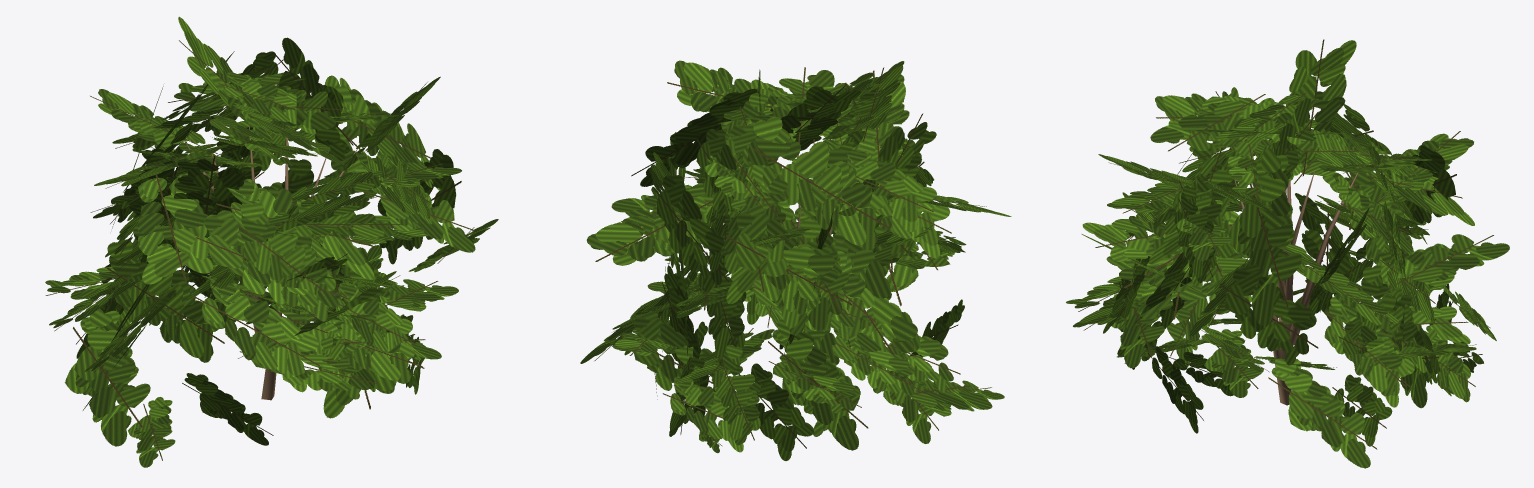
File: mid.glb
3 renders of one model, left to right at view 1: azimuth 30°, elevation 25°; view 2: azimuth 150°, elevation 25°; view 3: azimuth 270°, elevation 25°, orthographic. The views are drawn at different scales.
Parts seen in each view (by area): view 1: foliage.001, bark.001; view 2: foliage.001; view 3: foliage.001, bark.001.
Part boxes in pixels (<box>): foliage.001: <box>45,16,498,467</box>; bark.001: <box>184,125,357,400</box>; foliage.001: <box>580,60,1011,460</box>; foliage.001: <box>1066,39,1509,468</box>; bark.001: <box>1234,171,1358,405</box>.
Bounding box in the file's own units: 14.58 × 11.76 × 14.16.
2 materials, 1 textured.
